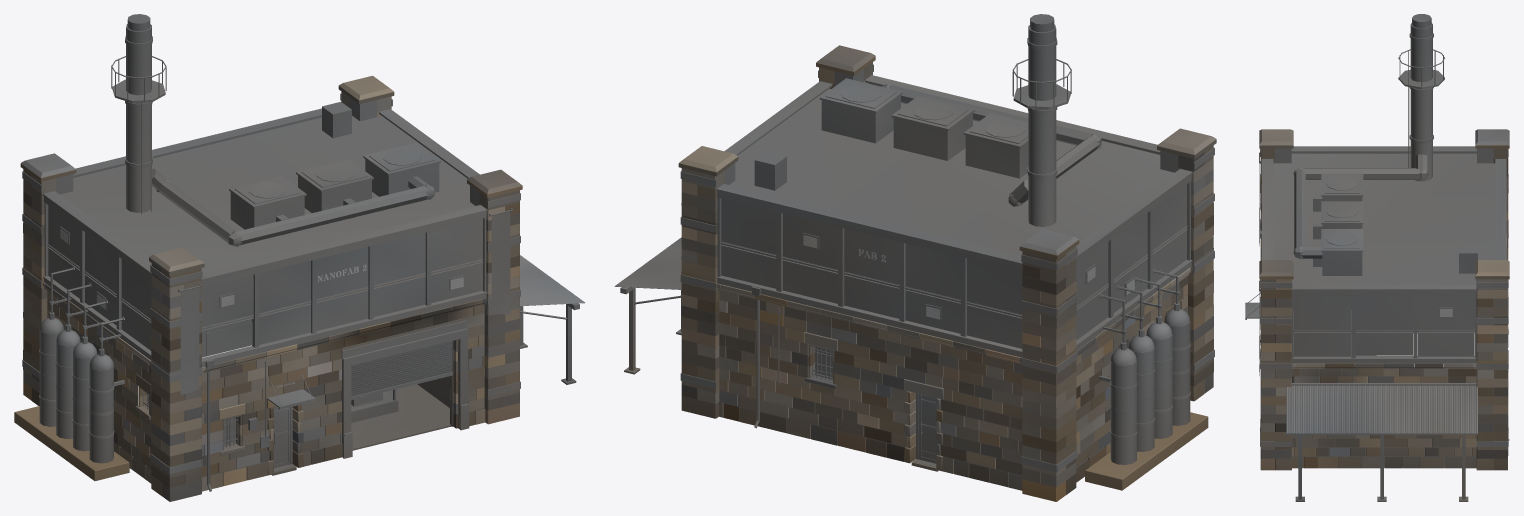
The model's file is Nanofab2_LOD1.glb.
The picture shows the model from 3 angles, left to right: view 1: azimuth 30°, elevation 25°; view 2: azimuth 150°, elevation 25°; view 3: azimuth 270°, elevation 25°; orthographic projection. The views are drawn at different scales.
Parts seen in each view (by area): view 1: Nanofab2_Metal_LOD1, Nanofab2_Masonry_LOD1, Nanofab2_Roof_LOD1, Nanofab2_Trim_LOD1, Nanofab2_Interior_LOD1, Nanofab2_Canvas_LOD1, Nanofab2_Porch_LOD1, Nanofab2_Glow_LOD1; view 2: Nanofab2_Metal_LOD1, Nanofab2_Masonry_LOD1, Nanofab2_Roof_LOD1, Nanofab2_Trim_LOD1, Nanofab2_Porch_LOD1, Nanofab2_Glow_LOD1; view 3: Nanofab2_Metal_LOD1, Nanofab2_Roof_LOD1, Nanofab2_Masonry_LOD1, Nanofab2_Trim_LOD1, Nanofab2_Glow_LOD1.
Part boxes in pixels (left/top/right/bottom): Nanofab2_Metal_LOD1: left=22, top=14, right=579, bottom=491; Nanofab2_Masonry_LOD1: left=23, top=91, right=519, bottom=501; Nanofab2_Roof_LOD1: left=60, top=116, right=585, bottom=306; Nanofab2_Trim_LOD1: left=20, top=75, right=522, bottom=475; Nanofab2_Interior_LOD1: left=351, top=376, right=451, bottom=450; Nanofab2_Canvas_LOD1: left=180, top=211, right=510, bottom=394; Nanofab2_Porch_LOD1: left=14, top=406, right=296, bottom=480; Nanofab2_Glow_LOD1: left=48, top=245, right=483, bottom=443; Nanofab2_Metal_LOD1: left=620, top=14, right=1214, bottom=472; Nanofab2_Masonry_LOD1: left=681, top=62, right=1213, bottom=501; Nanofab2_Roof_LOD1: left=614, top=88, right=1174, bottom=289; Nanofab2_Trim_LOD1: left=678, top=45, right=1216, bottom=471; Nanofab2_Porch_LOD1: left=911, top=412, right=1208, bottom=490; Nanofab2_Glow_LOD1: left=721, top=226, right=1187, bottom=317; Nanofab2_Metal_LOD1: left=1245, top=14, right=1509, bottom=501; Nanofab2_Roof_LOD1: left=1273, top=153, right=1495, bottom=433; Nanofab2_Masonry_LOD1: left=1260, top=148, right=1508, bottom=470; Nanofab2_Trim_LOD1: left=1259, top=129, right=1509, bottom=368; Nanofab2_Glow_LOD1: left=1293, top=330, right=1474, bottom=332.
Size of the model in its own units: 19.4 by 15.92 by 11.31.
